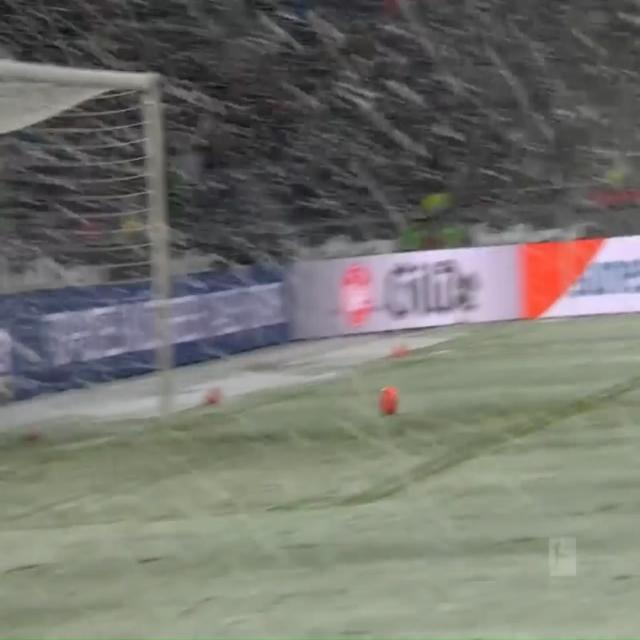ball: (372, 376, 403, 419)
